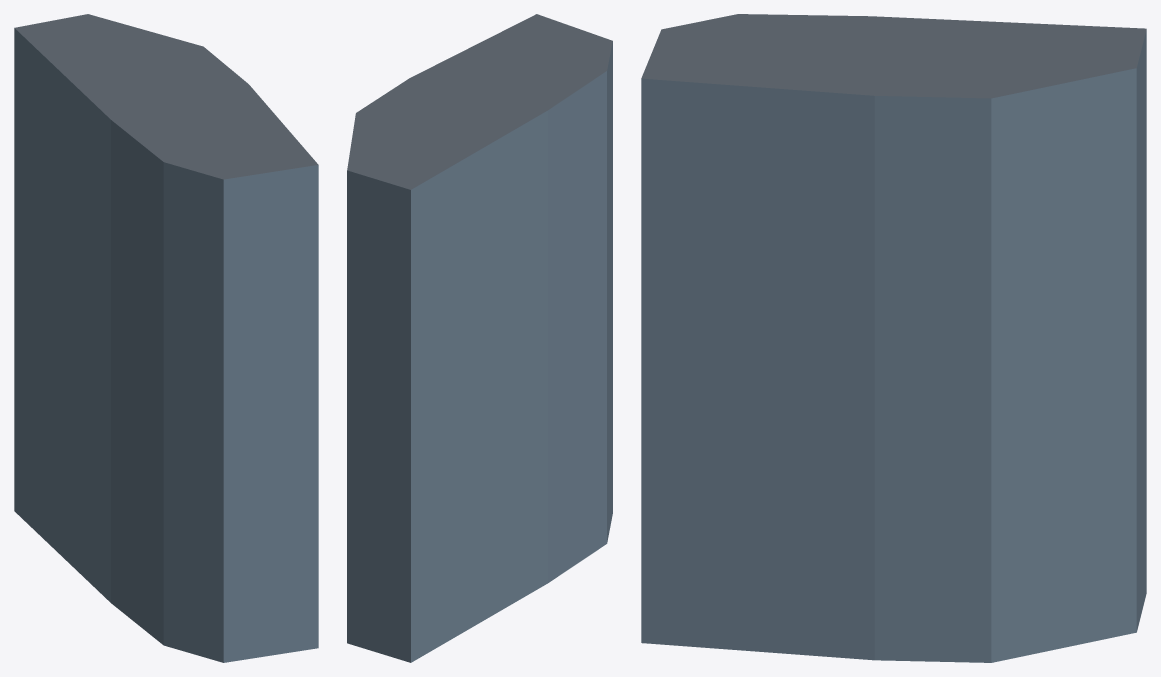
3 renders of one model, left to right at view 1: azimuth 30°, elevation 25°; view 2: azimuth 150°, elevation 25°; view 3: azimuth 270°, elevation 25°, orthographic. The views are drawn at different scales.
Parts seen in each view (by area): view 1: HP-w859447906; view 2: HP-w859447906; view 3: HP-w859447906.
Boxes of the visible parts, left/top/right/bottom form: HP-w859447906: left=14, top=14, right=318, bottom=662; HP-w859447906: left=347, top=14, right=612, bottom=662; HP-w859447906: left=641, top=14, right=1146, bottom=662.
Size of the model in its own units: 24.4 by 76 by 61.68.
